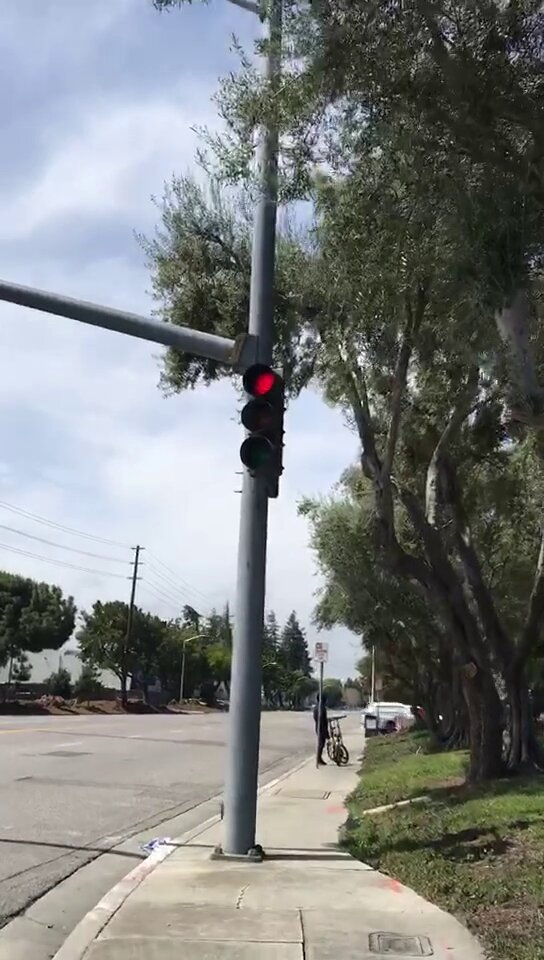red_light: (240, 363, 281, 473)
